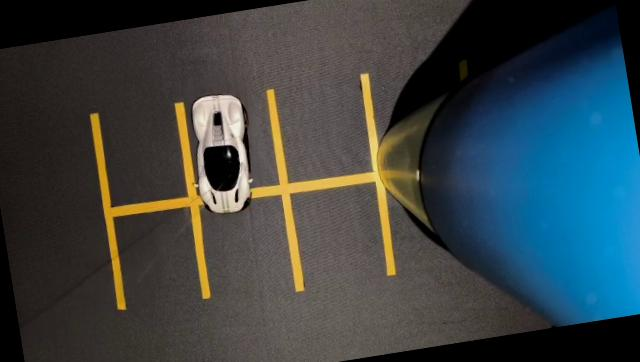toy_car: (165, 76, 288, 229)
